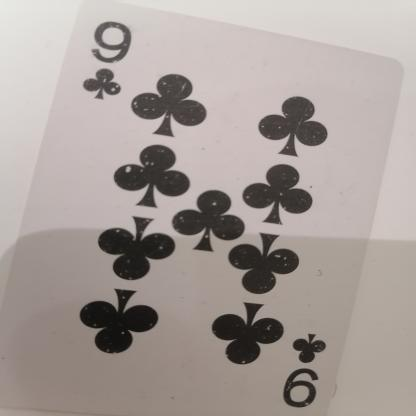9C: (64, 16, 157, 104), (272, 318, 350, 414)
